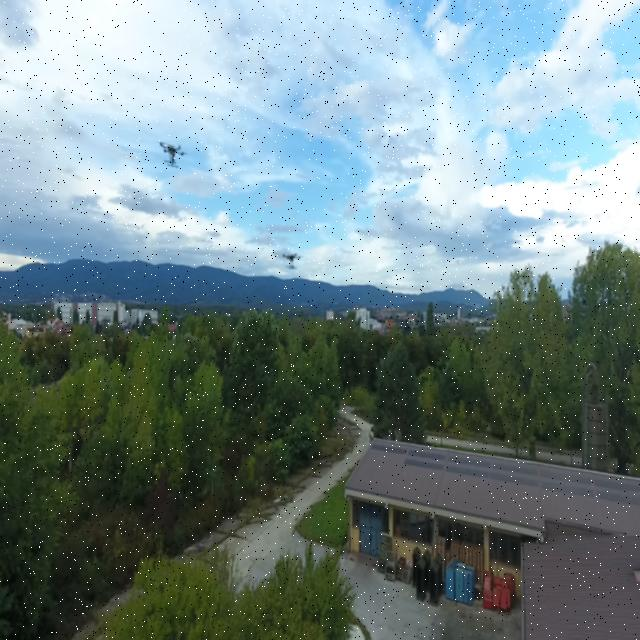UAV: (153, 136, 189, 170), (268, 247, 314, 270)
